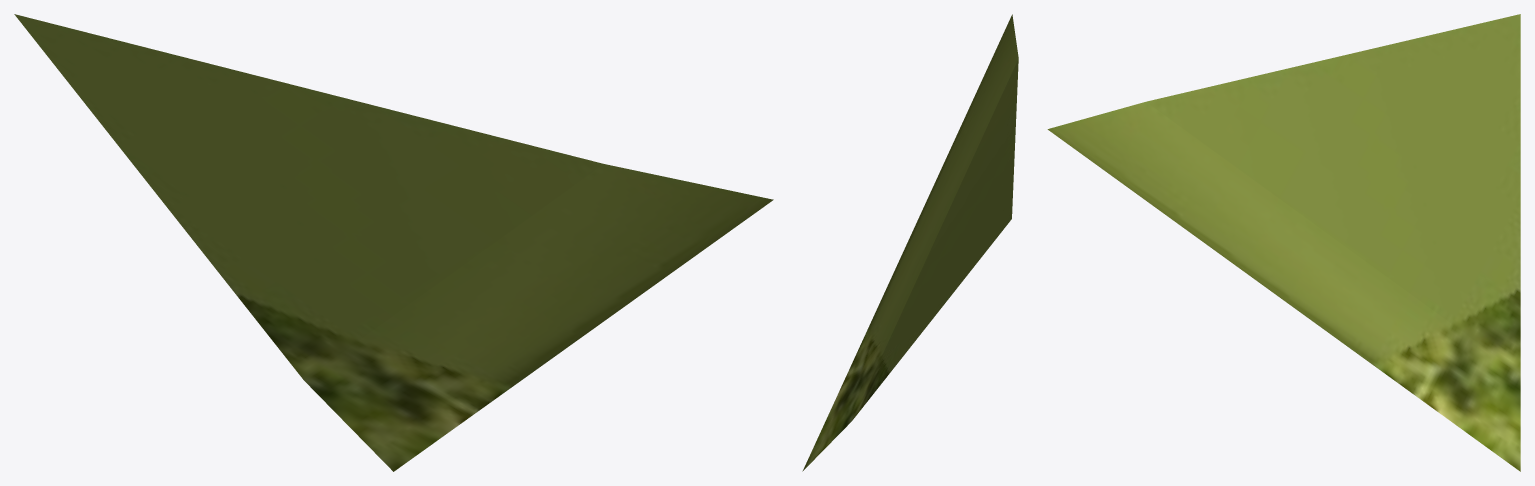
The picture shows the model from 3 angles, left to right: view 1: azimuth 30°, elevation 25°; view 2: azimuth 150°, elevation 25°; view 3: azimuth 270°, elevation 25°; orthographic projection. The views are drawn at different scales.
Size of the model in its own units: 0.9239 by 1.28 by 1.6.
Materials: 1 (1 with a texture image).
